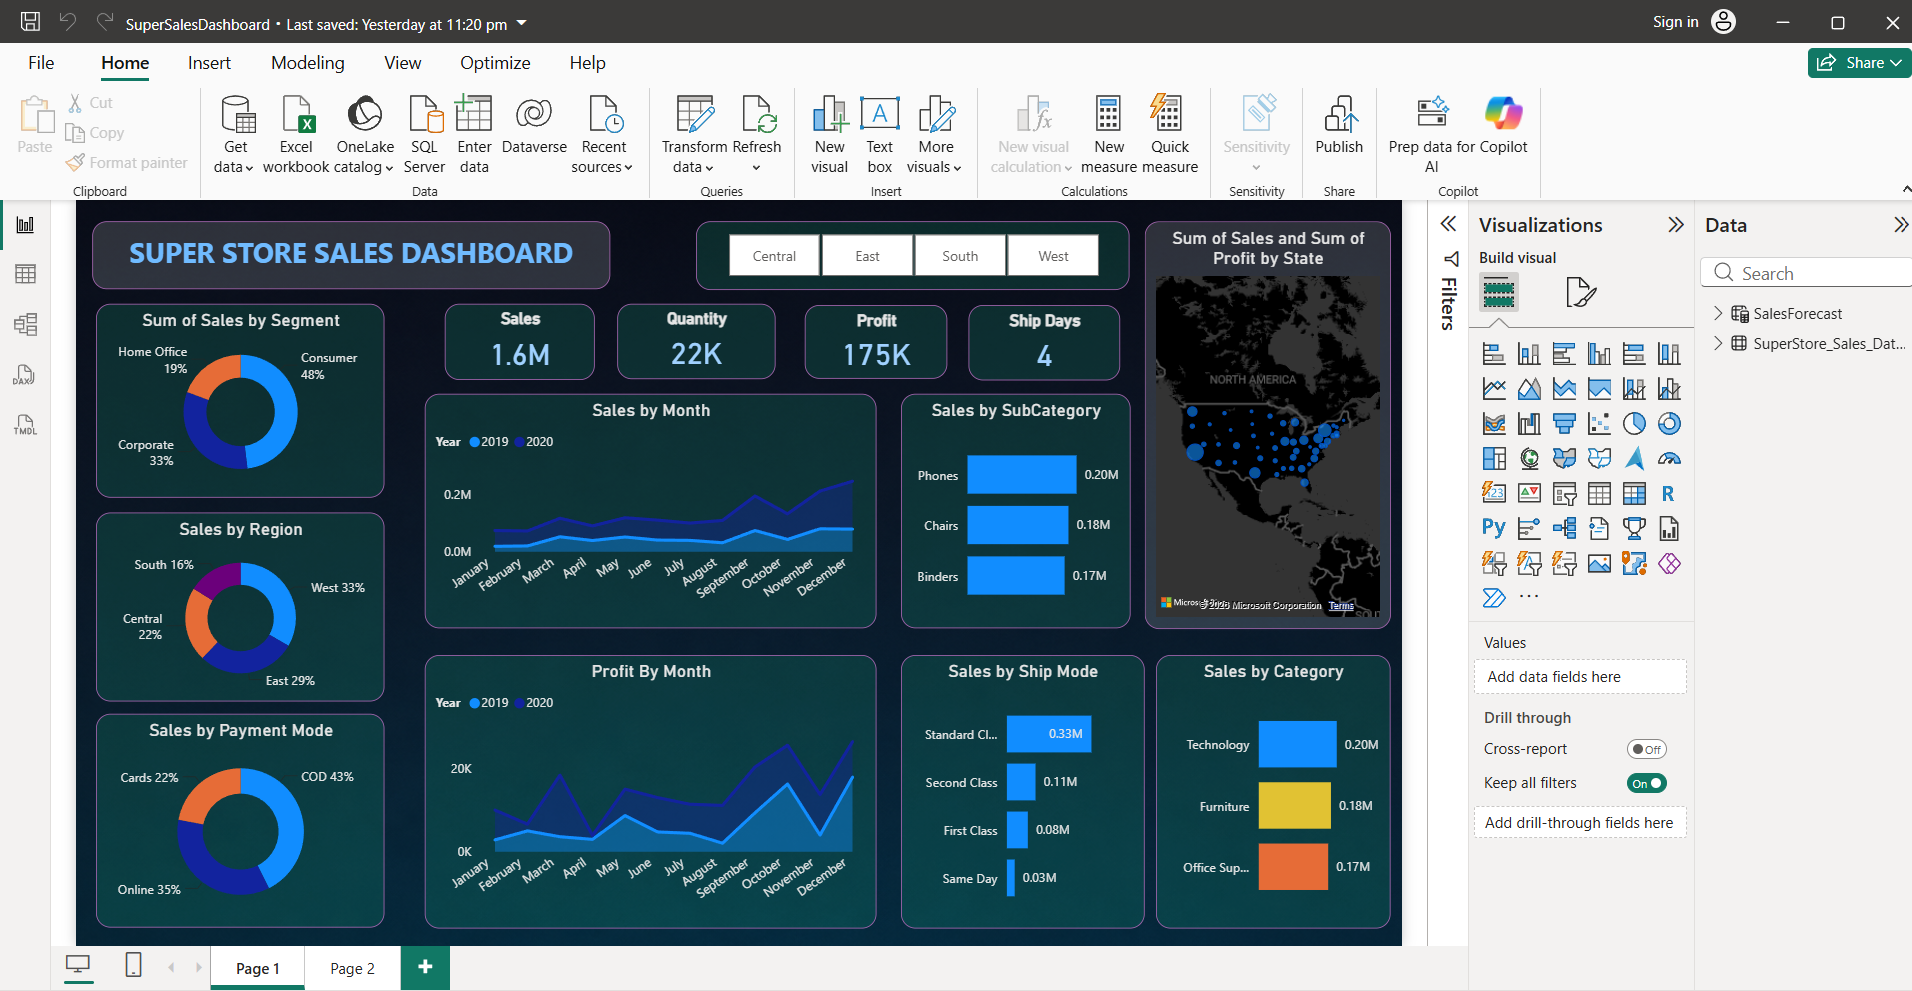

The page's visual inventory and layout, read from the dashboard file:
{"tool":"powerbi","page":{"name":"Page 1","canvas":[1280,720],"ordinal":0},"visuals":[{"type":"clusteredBarChart","title":" Sales by SubCategory","fields":{"Category":["SuperStore_Sales_Dataset.Sub-Category"],"Y":["Sum(SuperStore_Sales_Dataset.Sales)"]},"box":[796.2,187.5,221.2,226.2],"z":0},{"type":"clusteredBarChart","title":" Sales by Ship Mode","fields":{"Y":["Sum(SuperStore_Sales_Dataset.Sales)"],"Category":["SuperStore_Sales_Dataset.Ship Mode"]},"box":[796.2,438.8,235,263.8],"z":1000},{"type":"stackedAreaChart","title":"Sales by Month","fields":{"Y":["Sum(SuperStore_Sales_Dataset.Sales)"],"Category":["SuperStore_Sales_Dataset.Order Date.Variation.Date Hierarchy.Month","SuperStore_Sales_Dataset.Order Date.Variation.Date Hierarchy.Day"],"Series":["SuperStore_Sales_Dataset.Order Date.Variation.Date Hierarchy.Year"]},"box":[336.2,187.5,436.2,226.2],"z":2000},{"type":"stackedAreaChart","title":"Profit By Month","fields":{"Category":["SuperStore_Sales_Dataset.Order Date.Variation.Date Hierarchy.Month","SuperStore_Sales_Dataset.Order Date.Variation.Date Hierarchy.Day"],"Series":["SuperStore_Sales_Dataset.Order Date.Variation.Date Hierarchy.Year"],"Y":["Sum(SuperStore_Sales_Dataset.Profit)"]},"box":[336.2,438.8,436.2,263.8],"z":3000},{"type":"map","fields":{"Category":["SuperStore_Sales_Dataset.State"],"Size":["Sum(SuperStore_Sales_Dataset.Sales)"]},"box":[1031.2,20,237.5,393.8],"z":4000},{"type":"clusteredBarChart","title":" Sales by Category","fields":{"Category":["SuperStore_Sales_Dataset.Category"],"Y":["Sum(SuperStore_Sales_Dataset.Sales)"]},"box":[1042.5,438.8,226.2,263.8],"z":5000},{"type":"donutChart","fields":{"Category":["SuperStore_Sales_Dataset.Segment"],"Y":["Sum(SuperStore_Sales_Dataset.Sales)"]},"box":[18.8,100,278.8,187.5],"z":6000},{"type":"donutChart","title":" Sales by Payment Mode","fields":{"Y":["Sum(SuperStore_Sales_Dataset.Sales)"],"Category":["SuperStore_Sales_Dataset.Payment Mode"]},"box":[18.8,496.2,278.8,206.2],"z":7000},{"type":"slicer","fields":{"Values":["SuperStore_Sales_Dataset.Region"]},"box":[598.8,20,418.8,66.2],"z":8000},{"type":"textbox","box":[15.7,20,500,65.7],"z":9000},{"type":"card","title":"Sales","fields":{"Values":["Sum(SuperStore_Sales_Dataset.Sales)"]},"box":[356.2,100,145,73.8],"z":10000},{"type":"card","title":"Quantity","fields":{"Values":["Sum(SuperStore_Sales_Dataset.Quantity)"]},"box":[522.5,100,152.5,72.5],"z":11000},{"type":"card","title":"Profit","fields":{"Values":["Sum(SuperStore_Sales_Dataset.Profit)"]},"box":[703.8,101.2,137.5,71.2],"z":12000},{"type":"card","title":"Ship Days","fields":{"Values":["Avg(SuperStore_Sales_Dataset.AvgDelivery)"]},"box":[861.2,101.2,146.2,72.5],"z":13000},{"type":"donutChart","title":"Sales by Region","fields":{"Category":["SuperStore_Sales_Dataset.Region"],"Y":["Sum(SuperStore_Sales_Dataset.Sales)"]},"box":[18.8,301.2,278.8,182.5],"z":13001}]}

Visuals, with their boxes on the page's 1280x720 design canvas (x1, y1, x2, y2). These are canvas units, not pixel positions in the 1912x991 screenshot, which may show the page scaled, cropped or inside an application window:
" Sales by SubCategory" clusteredBarChart: detection(796, 188, 1017, 414)
" Sales by Ship Mode" clusteredBarChart: detection(796, 439, 1031, 703)
"Sales by Month" stackedAreaChart: detection(336, 188, 772, 414)
"Profit By Month" stackedAreaChart: detection(336, 439, 772, 703)
map - SuperStore_Sales_Dataset.State x Sum(SuperStore_Sales_Dataset.Sales): detection(1031, 20, 1269, 414)
" Sales by Category" clusteredBarChart: detection(1042, 439, 1269, 703)
donutChart - SuperStore_Sales_Dataset.Segment x Sum(SuperStore_Sales_Dataset.Sales): detection(19, 100, 298, 288)
" Sales by Payment Mode" donutChart: detection(19, 496, 298, 702)
slicer - SuperStore_Sales_Dataset.Region: detection(599, 20, 1018, 86)
textbox: detection(16, 20, 516, 86)
"Sales" card: detection(356, 100, 501, 174)
"Quantity" card: detection(522, 100, 675, 172)
"Profit" card: detection(704, 101, 841, 172)
"Ship Days" card: detection(861, 101, 1007, 174)
"Sales by Region" donutChart: detection(19, 301, 298, 484)
